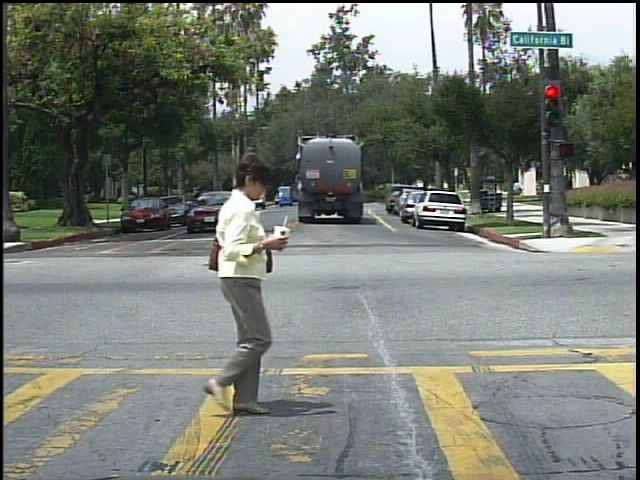person: (176, 152, 296, 424), (515, 181, 529, 200)
